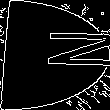N_W: (5, 34, 105, 76)
